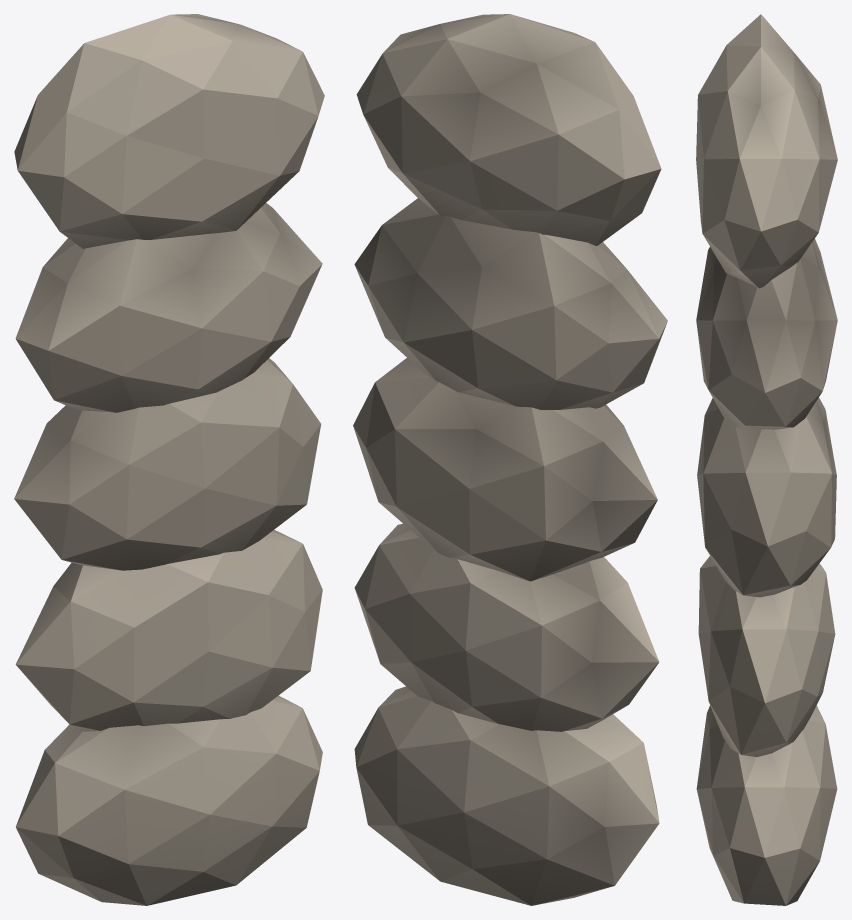
Rendered from earth-corner.glb.
The picture shows the model from 3 angles, left to right: view 1: azimuth 30°, elevation 25°; view 2: azimuth 150°, elevation 25°; view 3: azimuth 270°, elevation 25°; orthographic projection. The views are drawn at different scales.
Visible parts, largest first — view 1: body; view 2: body; view 3: body.
Boxes of the visible parts, box(x1,y1,x2,y2) form: body: box(14, 14, 324, 905); body: box(353, 14, 667, 905); body: box(696, 14, 837, 905).
Size of the model in its own units: 0.7801 by 2.12 by 0.3276.
